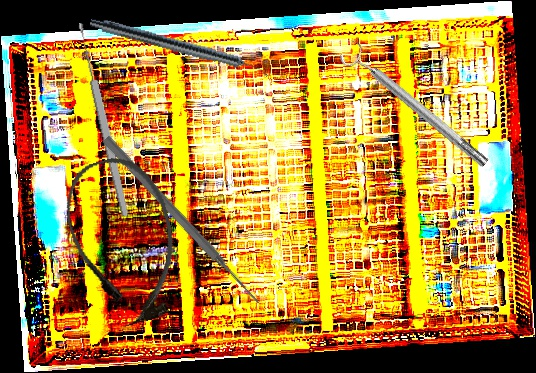Cannula: (55, 148, 193, 334)
Fixation Ring: (336, 37, 495, 176)
Handpiece: (87, 15, 272, 80)
Pusher: (100, 134, 264, 308)
Surgical Spoon: (75, 21, 131, 218)
